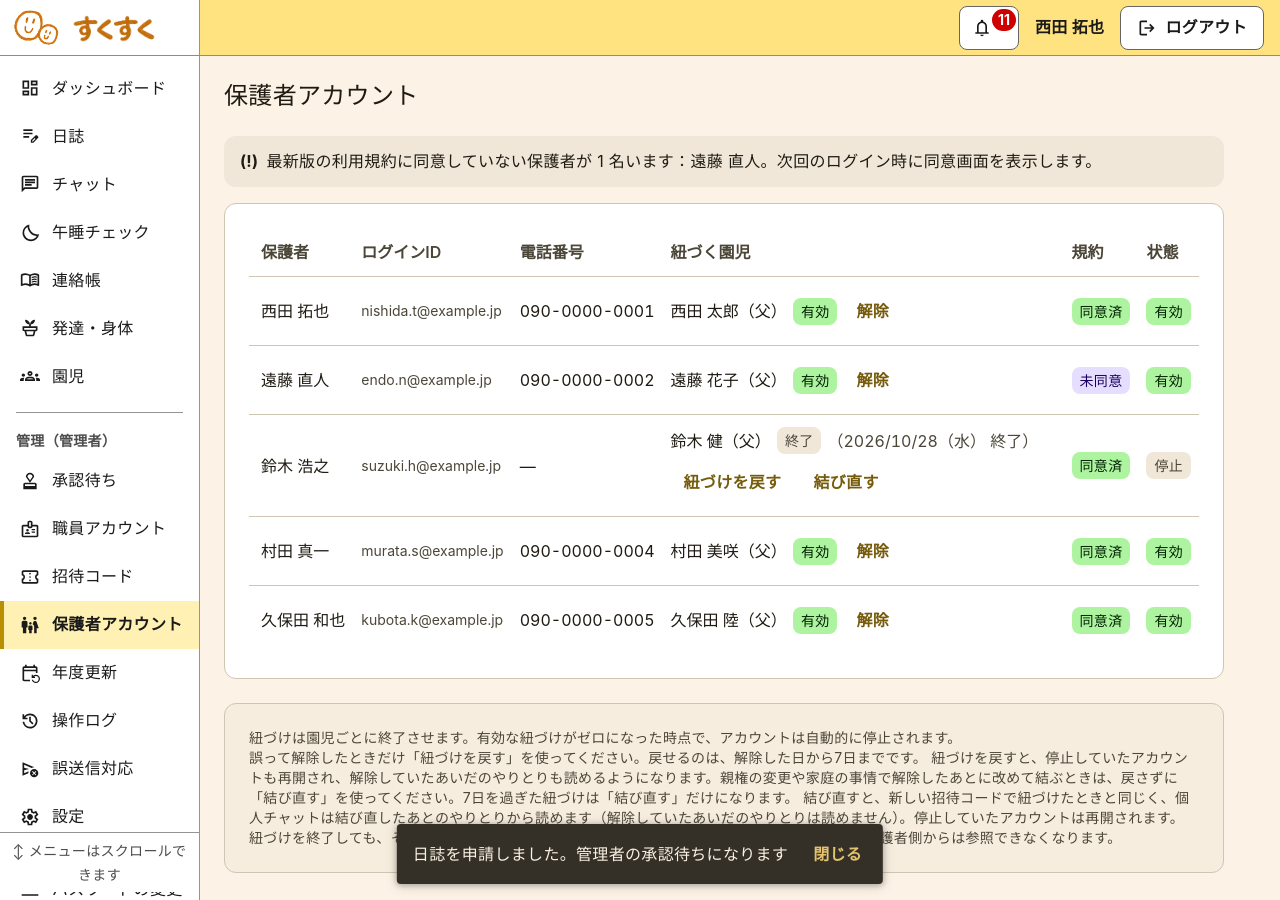
Scenario: 「紐づけを戻す」の確認ダイアログは、誤って解除したときだけ使うことと、解除していたあいだのやりとりも読めることを示す
Click the button "紐づけを戻す": x=732, y=482 [670,460,794,504]
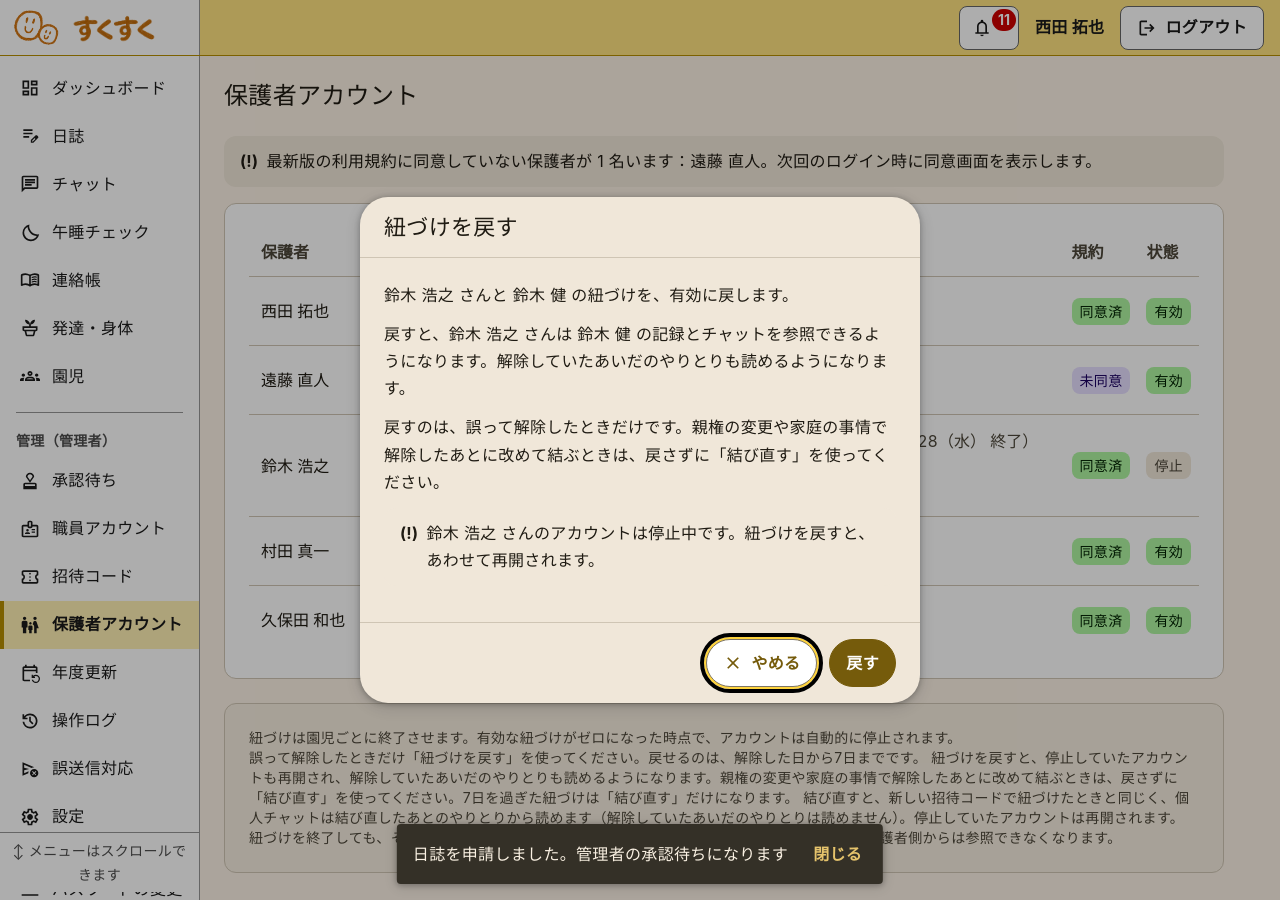
expect the dialog "紐づけを戻す" shows "誤って解除したときだけ": met, box [384,417,889,492]
expect the dialog "紐づけを戻す" shows "戻さずに「結び直す」を使ってください": met, box [384,417,889,492]
expect the dialog "紐づけを戻す" shows "解除していたあいだのやりとりも読めるようになります": met, box [384,324,888,398]
